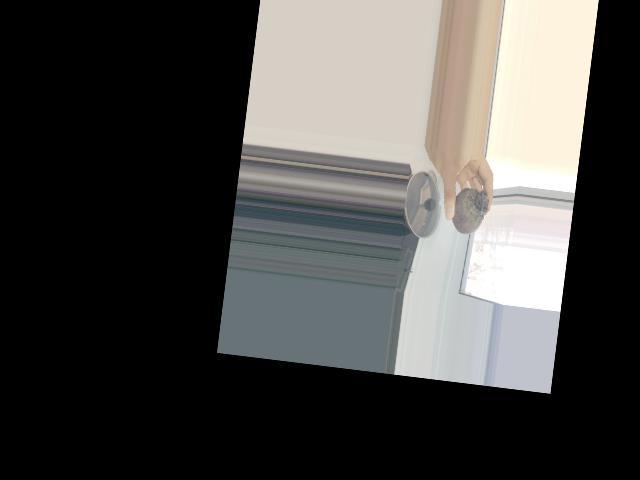beet: (449, 173, 491, 237)
